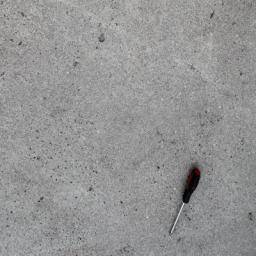FOD: (170, 166, 205, 244)
